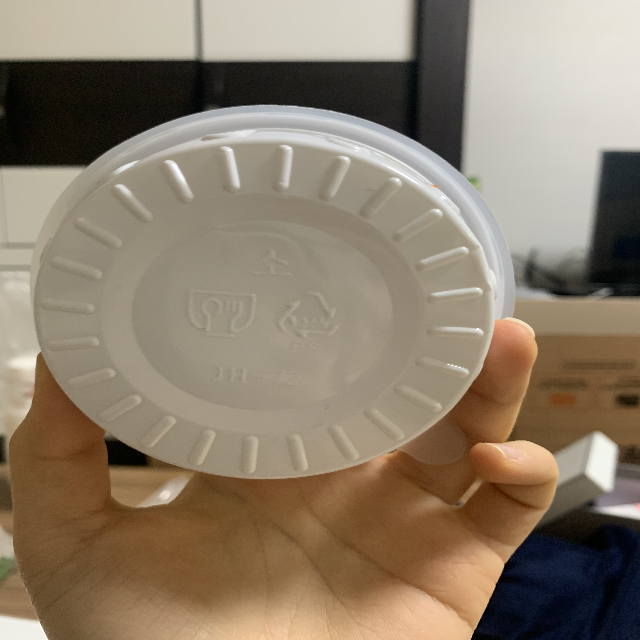ps: (274, 287, 339, 353)
